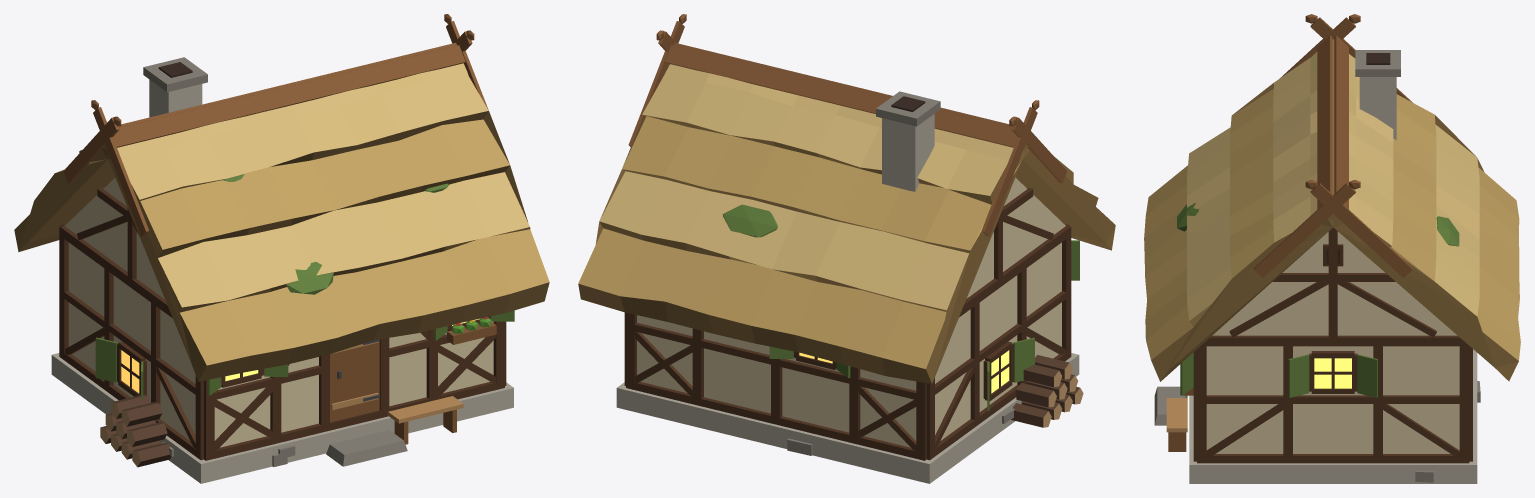
File: Dorf_Bauernhaus_Klein.fbx
3 views of the same model, side by side, from view 1: azimuth 30°, elevation 25°; view 2: azimuth 150°, elevation 25°; view 3: azimuth 270°, elevation 25° (orthographic). The views are drawn at different scales.
Parts seen in each view (by area): view 1: Dorf_Bauernhaus_Klein; view 2: Dorf_Bauernhaus_Klein; view 3: Dorf_Bauernhaus_Klein.
Part boxes in pixels (x1=…): Dorf_Bauernhaus_Klein: x1=14, y1=14, x2=549, y2=483; Dorf_Bauernhaus_Klein: x1=578, y1=14, x2=1115, y2=483; Dorf_Bauernhaus_Klein: x1=1144, y1=14, x2=1520, y2=483.
Size of the model in its own units: 6.81 by 5.77 by 6.28.
